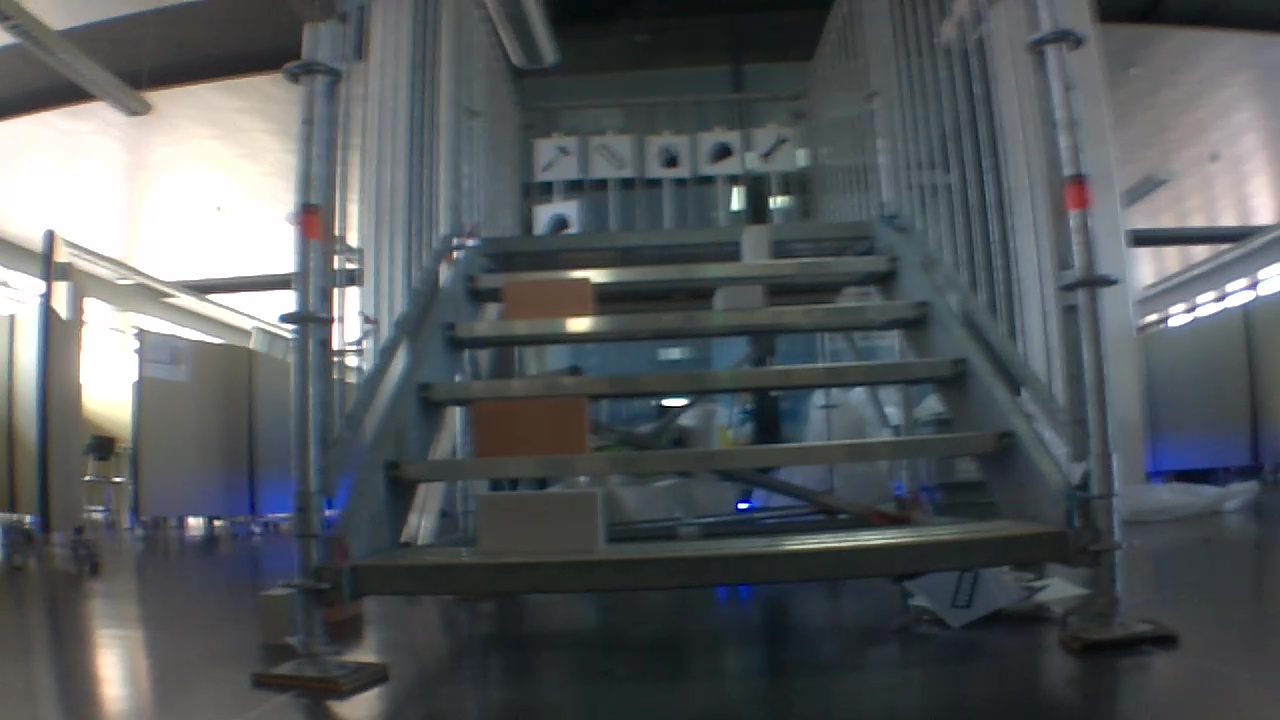brick: (477, 489, 604, 554), (472, 397, 589, 455), (502, 277, 588, 317), (260, 584, 295, 639), (712, 283, 762, 308), (742, 227, 769, 260)
bucket: (650, 141, 686, 171)
edge: (350, 530, 1073, 593), (384, 431, 1013, 476), (418, 355, 968, 399), (446, 301, 929, 335), (465, 253, 898, 286), (481, 217, 877, 246)
hammer: (536, 140, 575, 176)
ruler: (591, 142, 631, 175)
stairs: (250, 4, 1179, 699)
steps: (339, 204, 1083, 603)
taco: (537, 208, 575, 236), (703, 137, 736, 168)
wrench: (755, 130, 792, 169)
